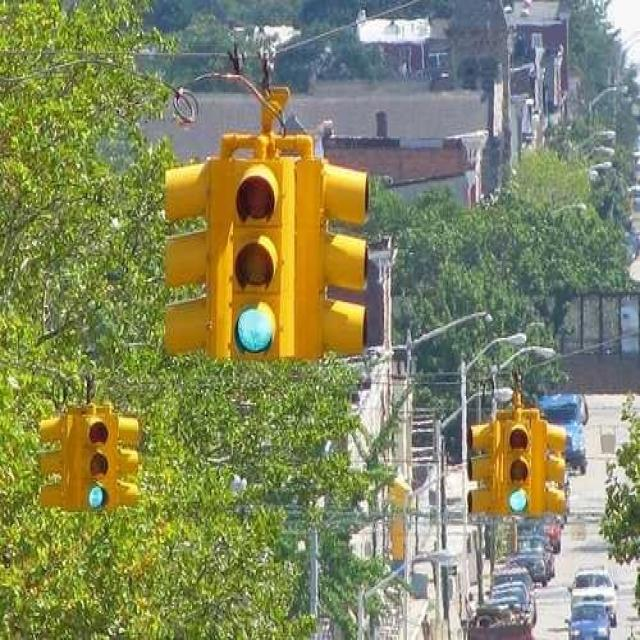Traffic Light -Green-: (223, 158, 286, 362), (498, 418, 544, 526), (73, 409, 115, 518)
